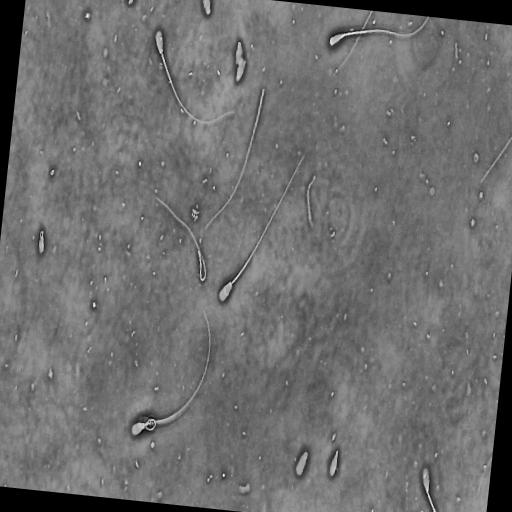coiled-tail: (145, 418, 156, 431), (147, 421, 155, 429)
loose-head: (294, 449, 309, 478), (234, 53, 248, 84), (233, 36, 246, 67), (327, 448, 339, 479), (38, 227, 46, 256), (201, 0, 212, 17)
loose-tail: (201, 87, 266, 233), (154, 196, 207, 284), (334, 11, 374, 77), (479, 133, 512, 187), (306, 173, 316, 222)
normal: (216, 148, 307, 305), (154, 27, 238, 127), (328, 17, 429, 50), (129, 413, 158, 438)
